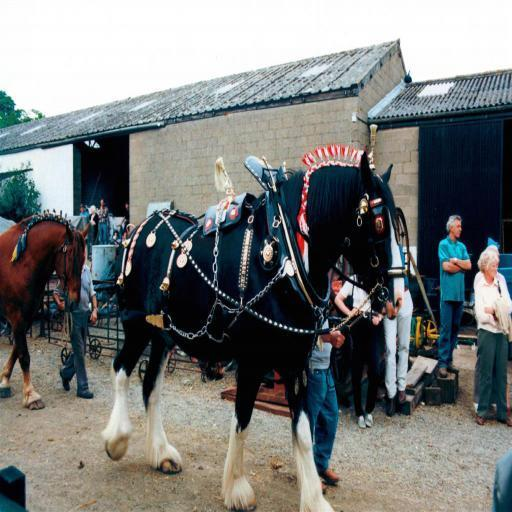horse: (101, 150, 399, 512), (0, 209, 92, 412)
